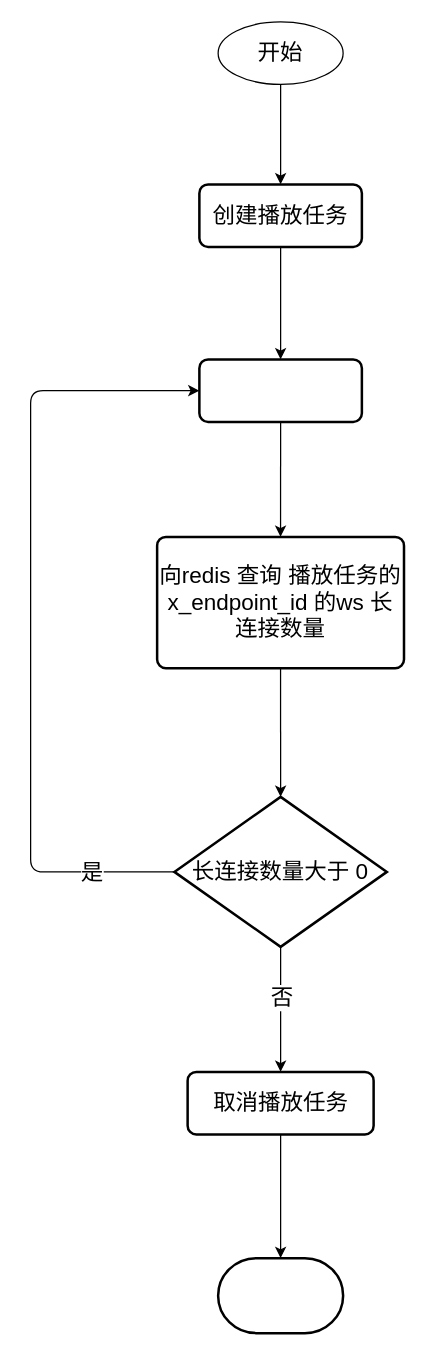
Image size: 428x1356. Some labels were removed from this diagram. The shapes that lost their labels are listed below. From the top down, each one's box as (x1, y1, x2, y2) in pixels, then its label:
(198, 358, 362, 422): 定时 5 s
(216, 1256, 344, 1334): 结束
